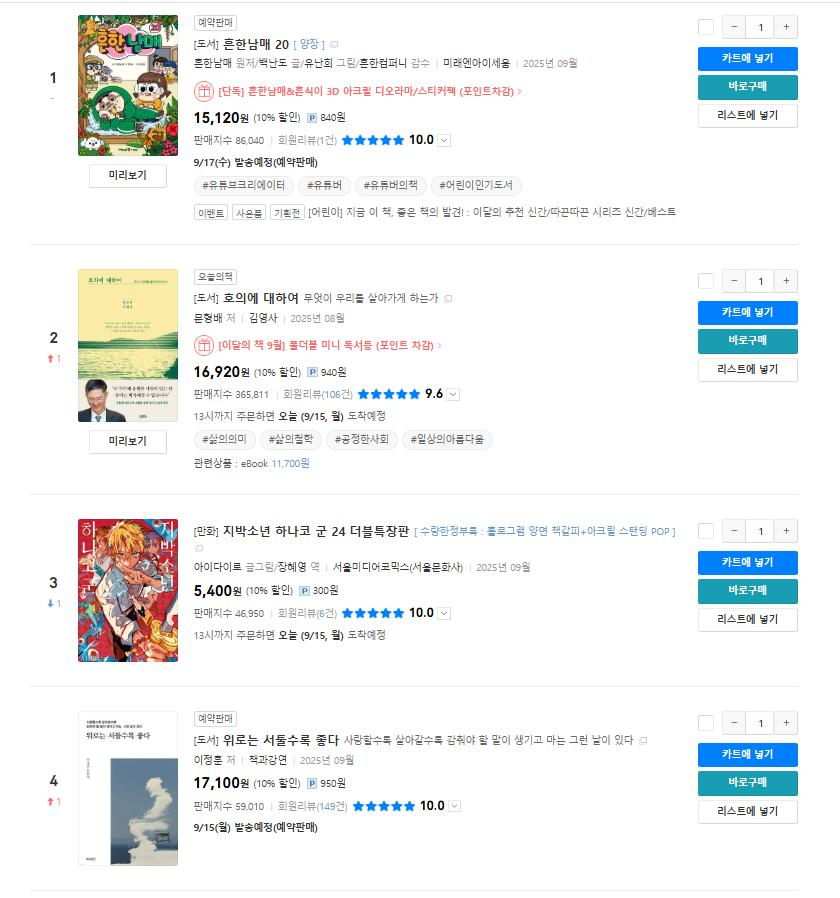button: (696, 76, 805, 100), (701, 579, 801, 603), (690, 774, 808, 794), (700, 799, 802, 821), (708, 605, 796, 630), (695, 745, 799, 766), (700, 49, 806, 69), (724, 714, 800, 740), (87, 160, 162, 186), (704, 359, 800, 379), (702, 554, 792, 575), (724, 15, 798, 40), (703, 106, 796, 125), (703, 302, 789, 322), (724, 520, 794, 544), (695, 334, 795, 350), (96, 429, 159, 448)
checkbox: (698, 268, 719, 286), (696, 12, 705, 28), (699, 529, 711, 538), (703, 718, 714, 725)
